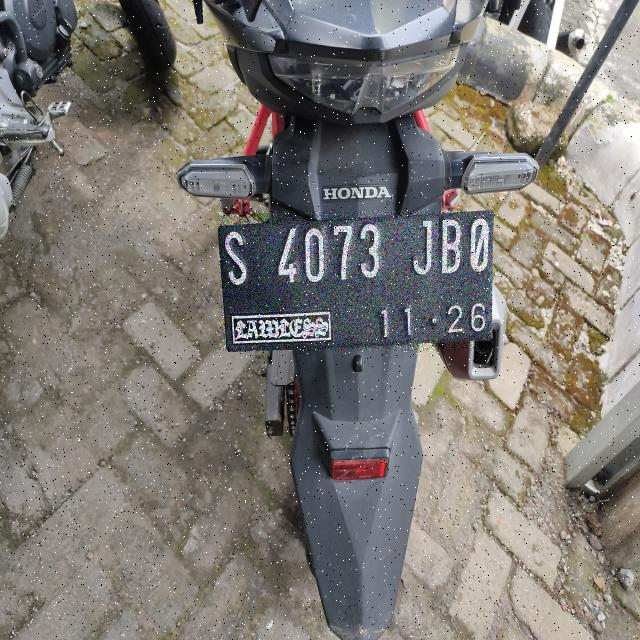plate: (219, 212, 492, 350)
